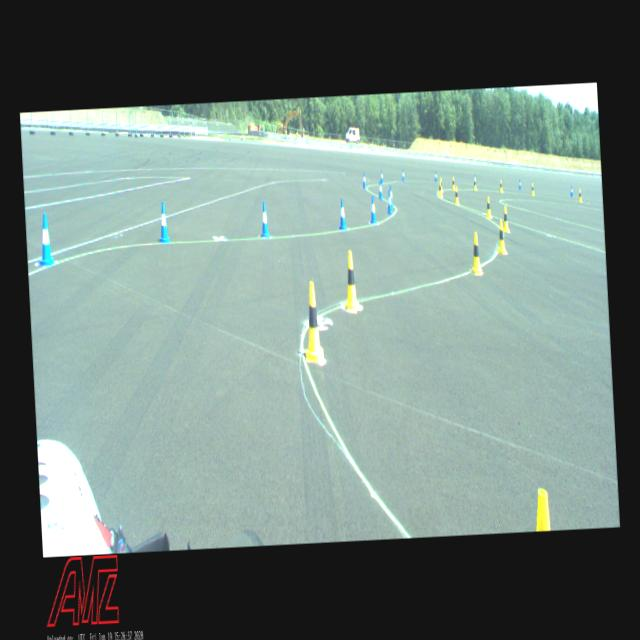blue_cone: (35, 213, 56, 267), (157, 202, 170, 243), (259, 201, 270, 238), (338, 198, 347, 230), (369, 195, 377, 224), (386, 190, 393, 215), (378, 180, 384, 200), (389, 184, 394, 207), (362, 172, 366, 188), (402, 169, 406, 182), (381, 169, 384, 184), (434, 171, 438, 182), (570, 186, 574, 197), (518, 179, 522, 190), (474, 174, 477, 185)
yellow_cone: (300, 282, 324, 362), (342, 250, 360, 312), (534, 488, 552, 532), (469, 232, 483, 275), (496, 220, 508, 254), (502, 206, 510, 233), (486, 196, 492, 219), (454, 186, 459, 205), (438, 180, 443, 198), (499, 180, 504, 193), (473, 177, 478, 190), (578, 189, 582, 202), (452, 177, 456, 190), (531, 183, 535, 195), (440, 177, 443, 193)
